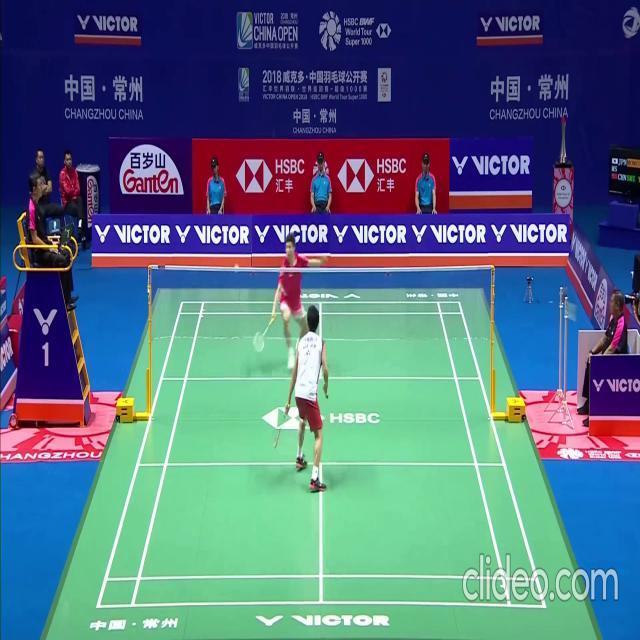Shuttlecock: (234, 266, 238, 274)
